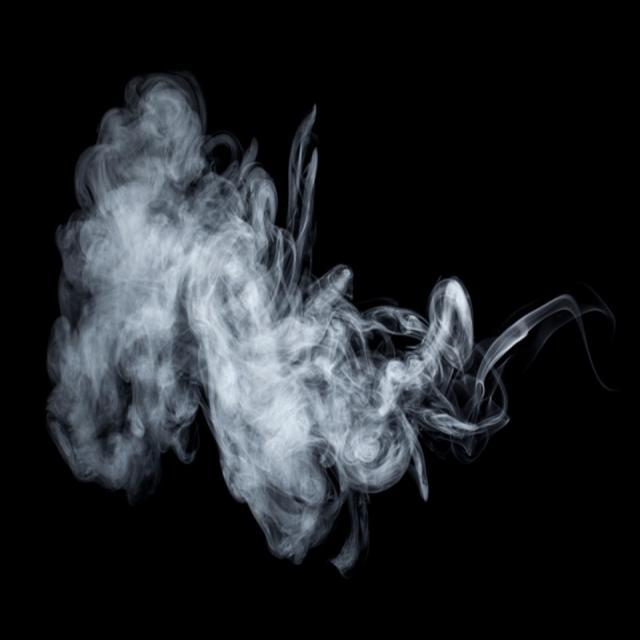Smoke: (46, 72, 617, 578)
